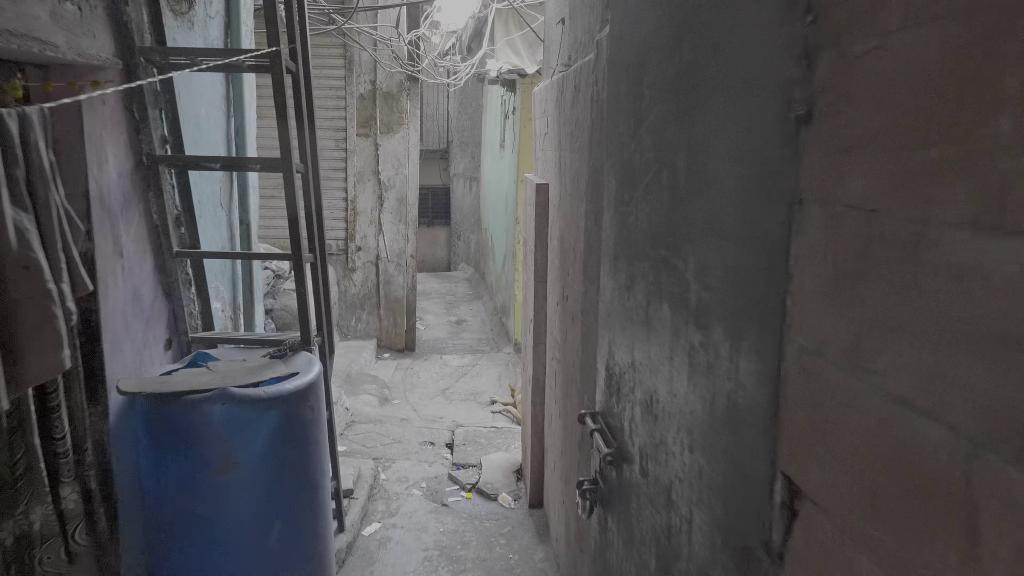garbage: (495, 491, 517, 510)
